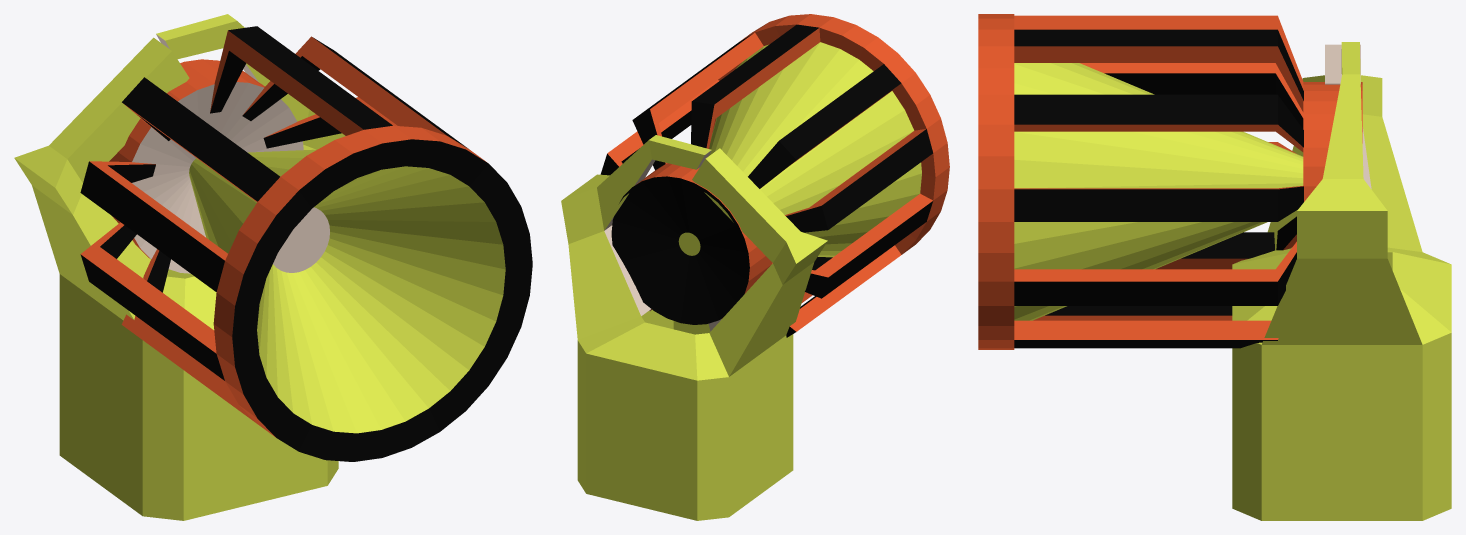
File: can55.fbx
3 renders of one model, left to right at view 1: azimuth 30°, elevation 25°; view 2: azimuth 150°, elevation 25°; view 3: azimuth 270°, elevation 25°, orthographic. The views are drawn at different scales.
Visible parts, largest first — view 1: Cylinder; view 2: Cylinder; view 3: Cylinder.
Part boxes in pixels (x1,y1,x2,y2): Cylinder: [14, 14, 532, 520]; Cylinder: [561, 14, 949, 520]; Cylinder: [978, 14, 1451, 520].
Size of the model in its own units: 94.86 by 134 by 129.
